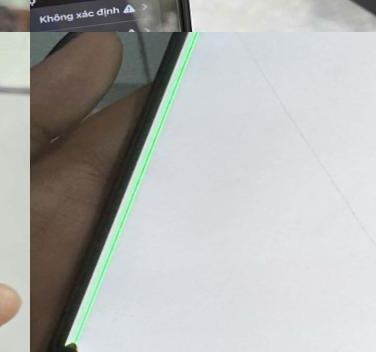screen_defect: (0, 0, 360, 192), (306, 147, 376, 237), (242, 63, 316, 135)
